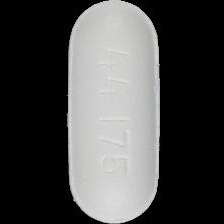50844-175: (0, 0, 224, 224)
